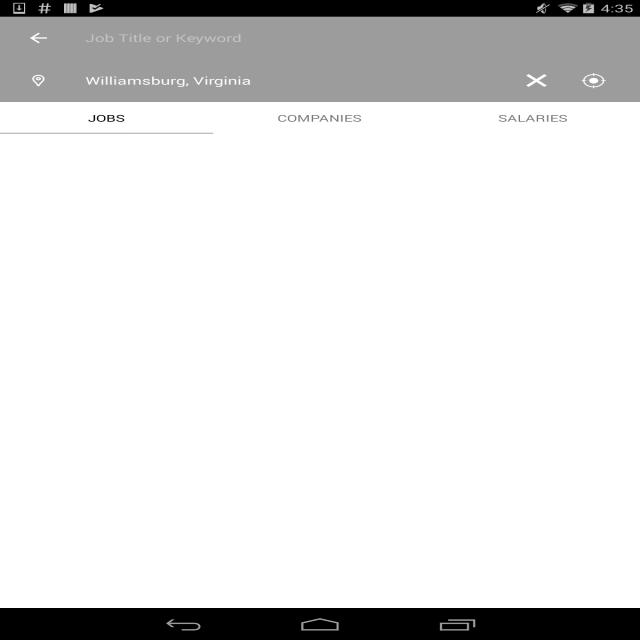EditText: (85, 26, 568, 50), (85, 68, 509, 93)
ImageButton: (9, 59, 68, 102), (9, 17, 68, 59)
ImageView: (564, 59, 623, 102), (509, 59, 564, 102)
TextView: (277, 112, 362, 124), (498, 112, 568, 124), (88, 112, 125, 124)
